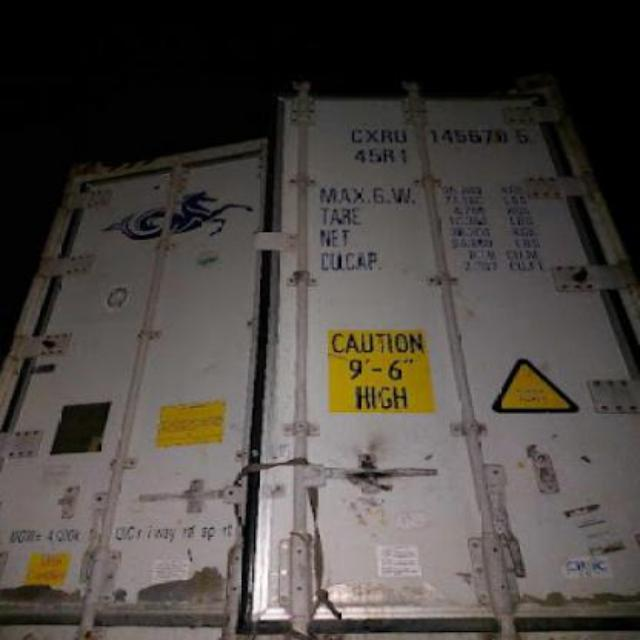0: (494, 126, 508, 146)
1: (428, 127, 439, 145)
4: (441, 128, 453, 146)
5: (514, 124, 530, 144), (454, 128, 466, 144)
6: (468, 127, 480, 145)
7: (481, 128, 494, 146)
C: (351, 126, 362, 146)
R: (381, 128, 392, 144)
U: (394, 128, 408, 144)
X: (364, 126, 378, 144)
